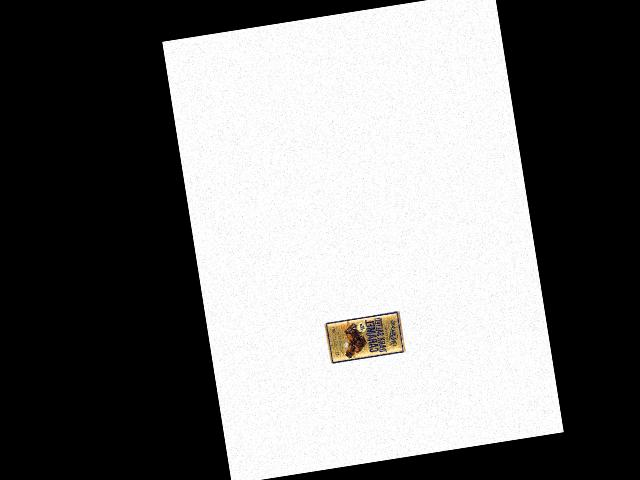chocolate: (322, 307, 405, 365)
